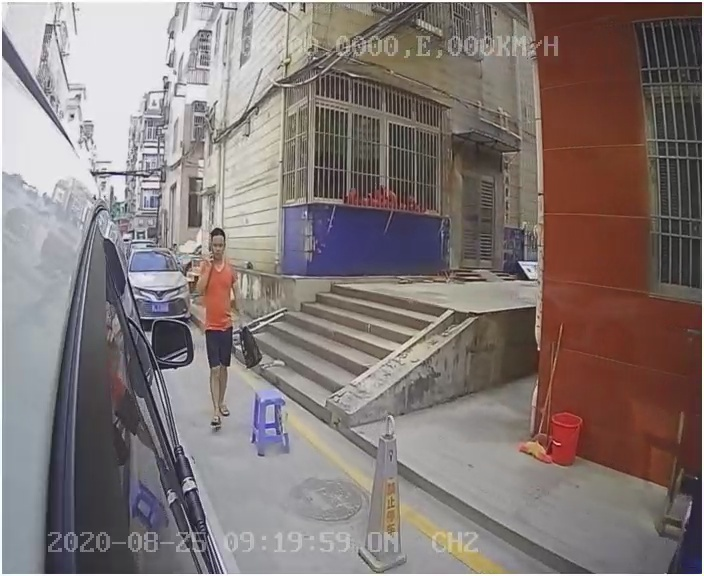person: (180, 223, 258, 438)
